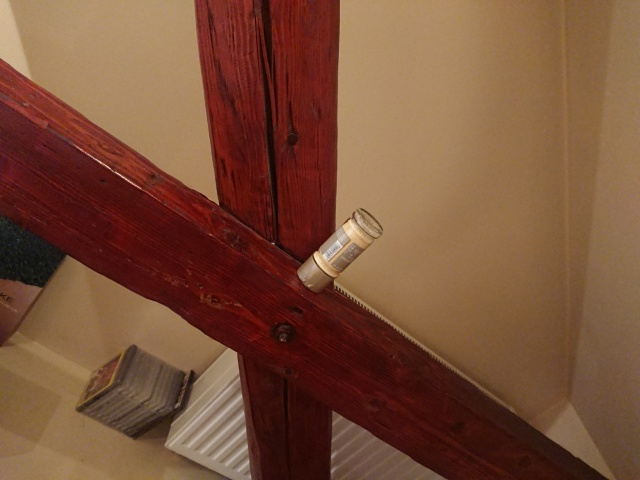Kotanyi Garlic Granules 70g: (295, 206, 385, 296)
